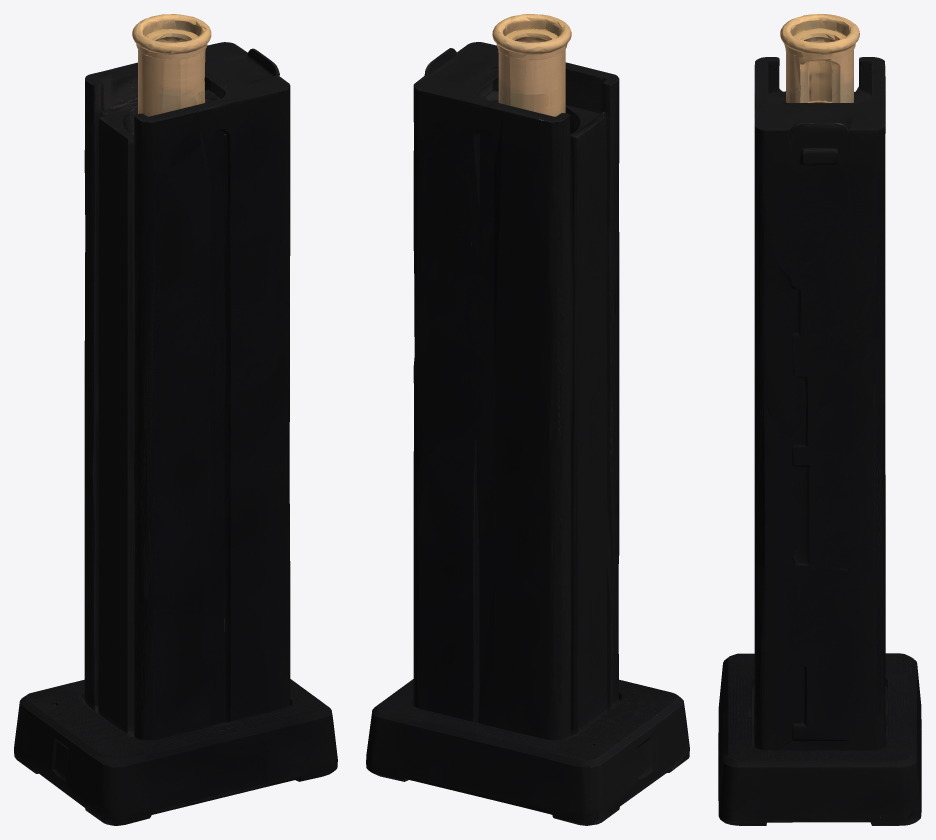
The picture shows the model from 3 angles, left to right: view 1: azimuth 30°, elevation 25°; view 2: azimuth 150°, elevation 25°; view 3: azimuth 270°, elevation 25°; orthographic projection.
Size of the model in its own units: 0.6351 by 1.9 by 0.4724.
1 material, 1 textured.
